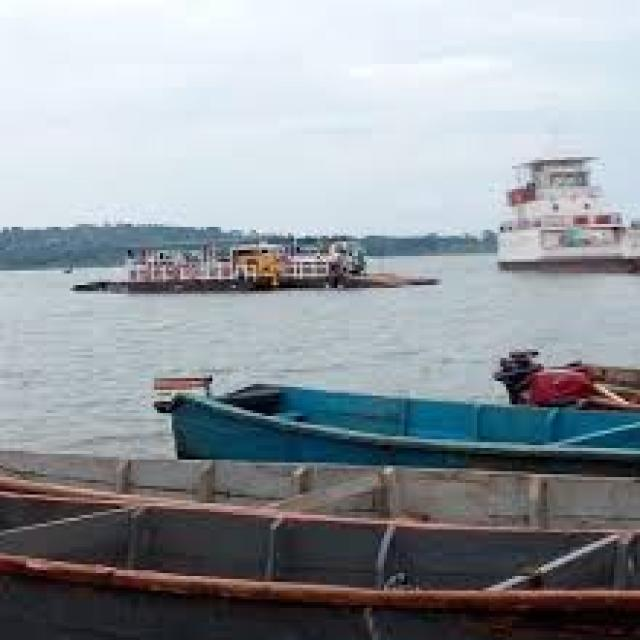fishing boat: (171, 348, 619, 456)
houseboat: (92, 222, 435, 322)
